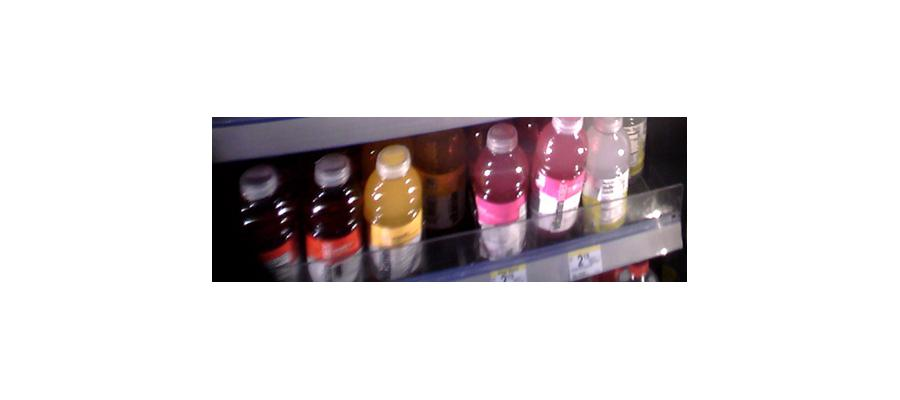bottle: (362, 142, 423, 279), (236, 163, 298, 281), (416, 125, 473, 251), (477, 125, 529, 262), (306, 156, 361, 284), (530, 113, 584, 242), (586, 113, 634, 232)
